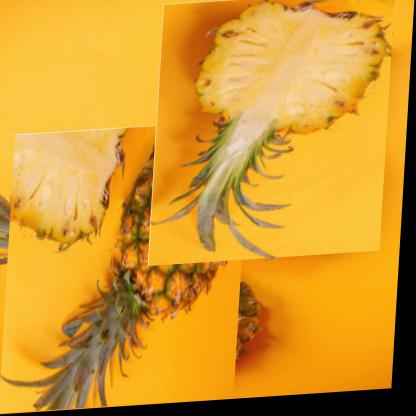pineapple: (0, 134, 264, 407), (151, 0, 396, 269)
